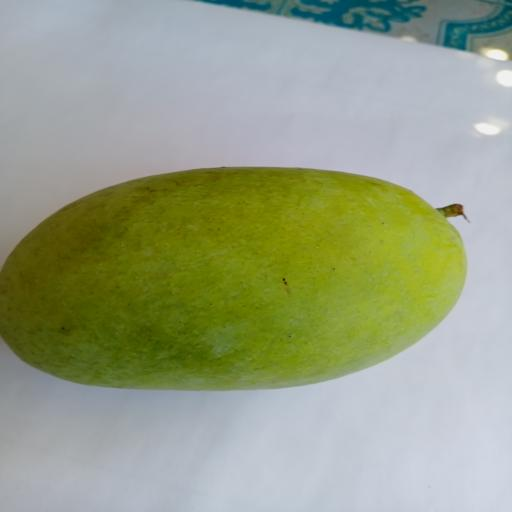mango-unripe: (0, 160, 494, 398)
